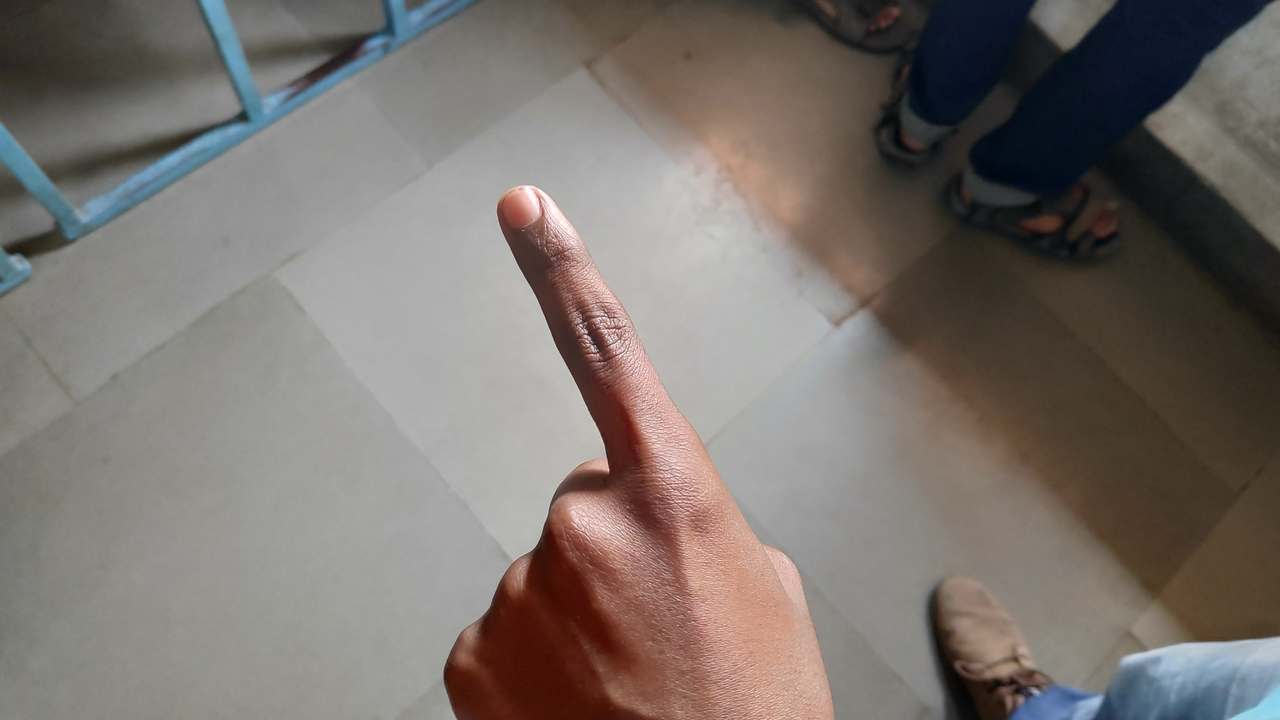fingertip: (484, 180, 566, 240)
